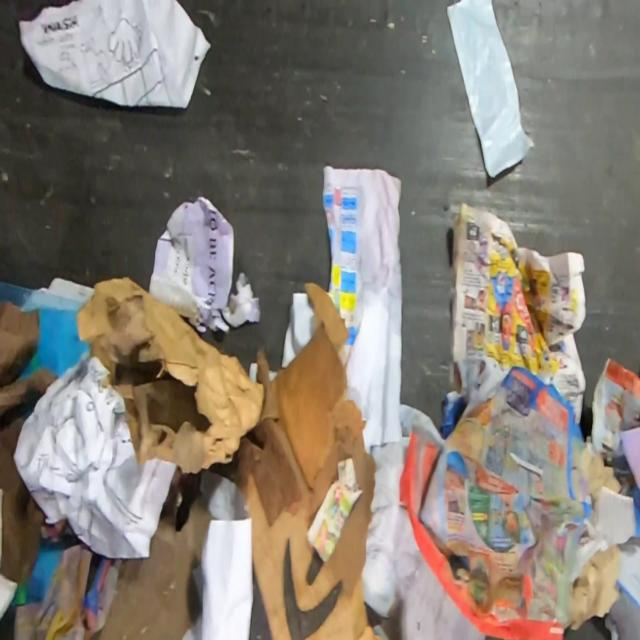cardboard: (210, 281, 383, 640), (76, 273, 264, 475), (84, 481, 214, 640), (0, 298, 60, 586), (567, 433, 637, 631)
soft_plastic: (446, 0, 538, 178), (0, 279, 92, 378)
